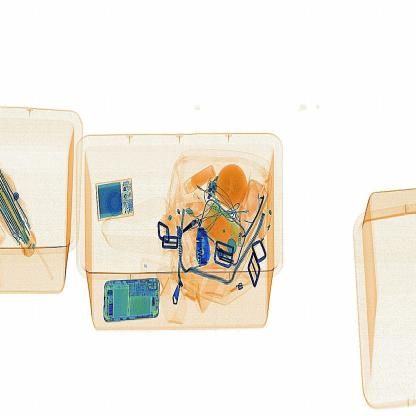scissors: (188, 221, 220, 273)
